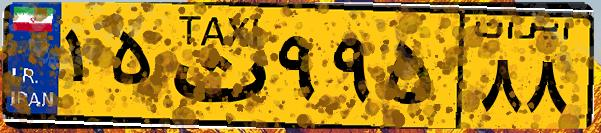1: (57, 26, 110, 100)
5: (385, 28, 445, 110), (110, 28, 158, 98)
8: (475, 38, 525, 113), (525, 38, 570, 115)
9: (270, 28, 330, 110), (330, 28, 385, 110)
ت: (158, 12, 270, 120)
